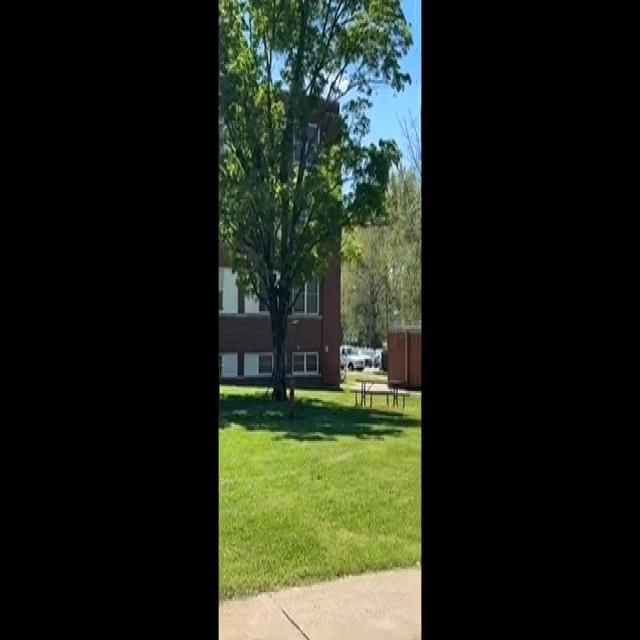drone: (284, 312, 300, 331)
